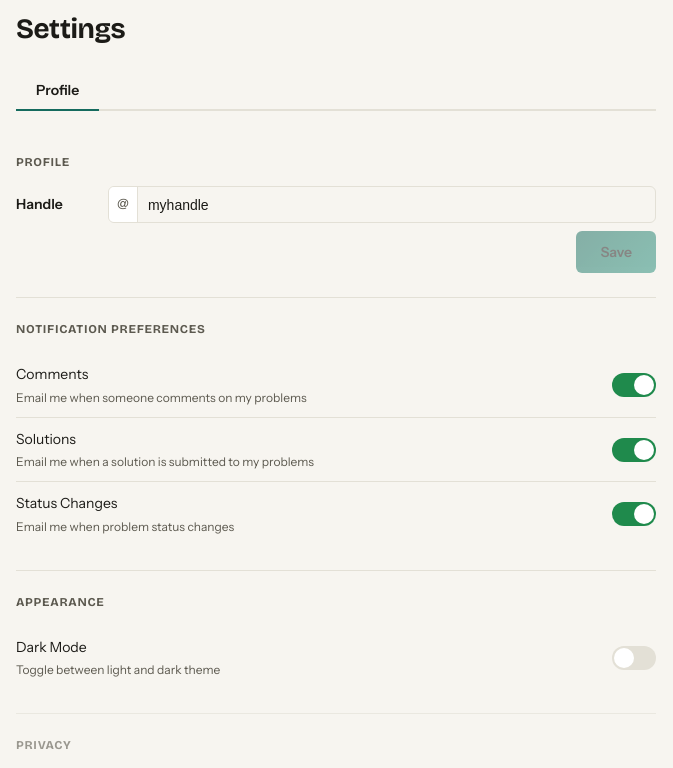
Settings page — handle edit › 422 response with 'That handle is not allowed.' renders that message
Replace the text in the field labelled "Handle" with "wanker" at x=396, y=205, box [138, 191, 655, 219]
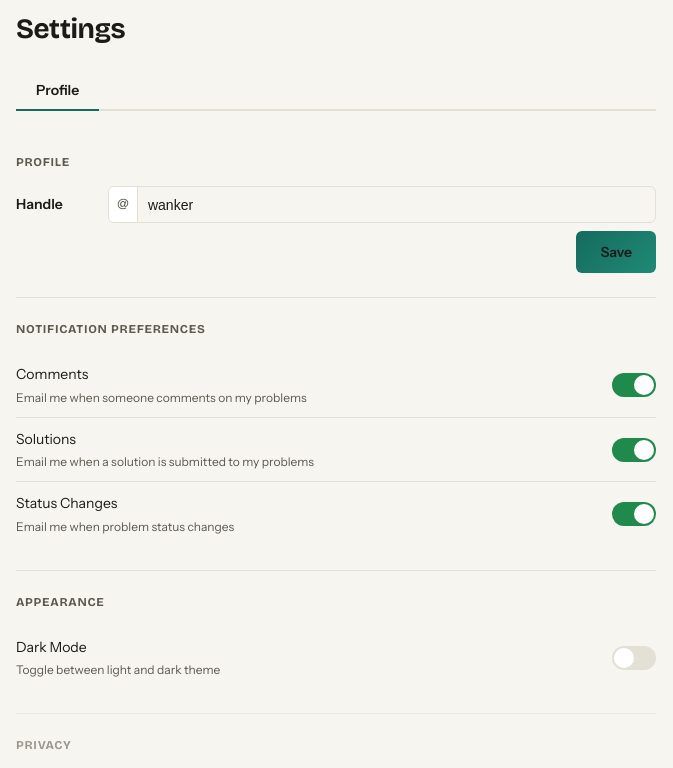
Click the button "Save" at x=616, y=252, box [576, 231, 656, 273]
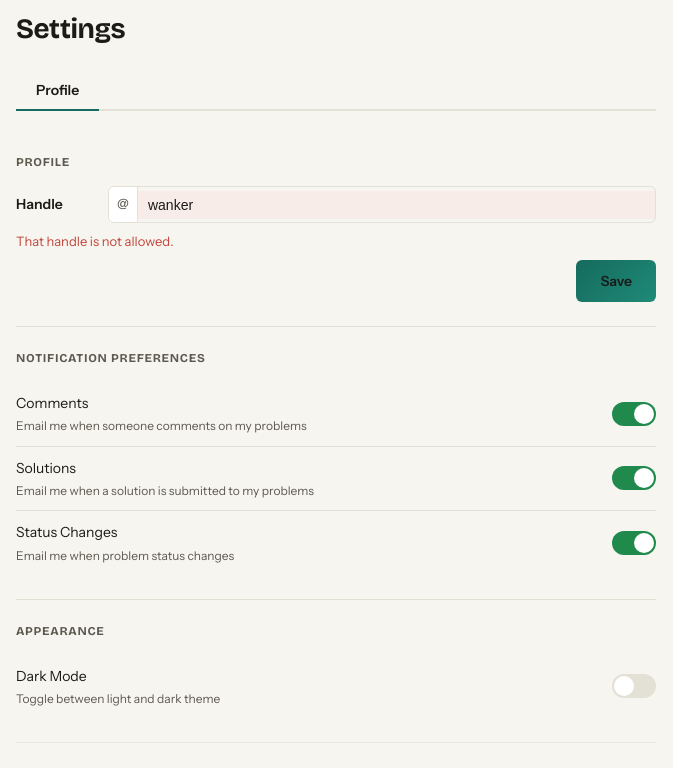
Now the text "That handle is not allowed." is shown, box [16, 233, 174, 249]
